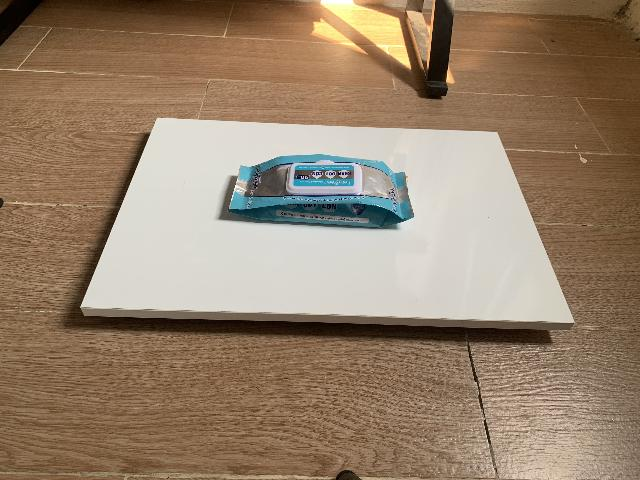Let-green_alcohol_wipes: (227, 154, 415, 228)
